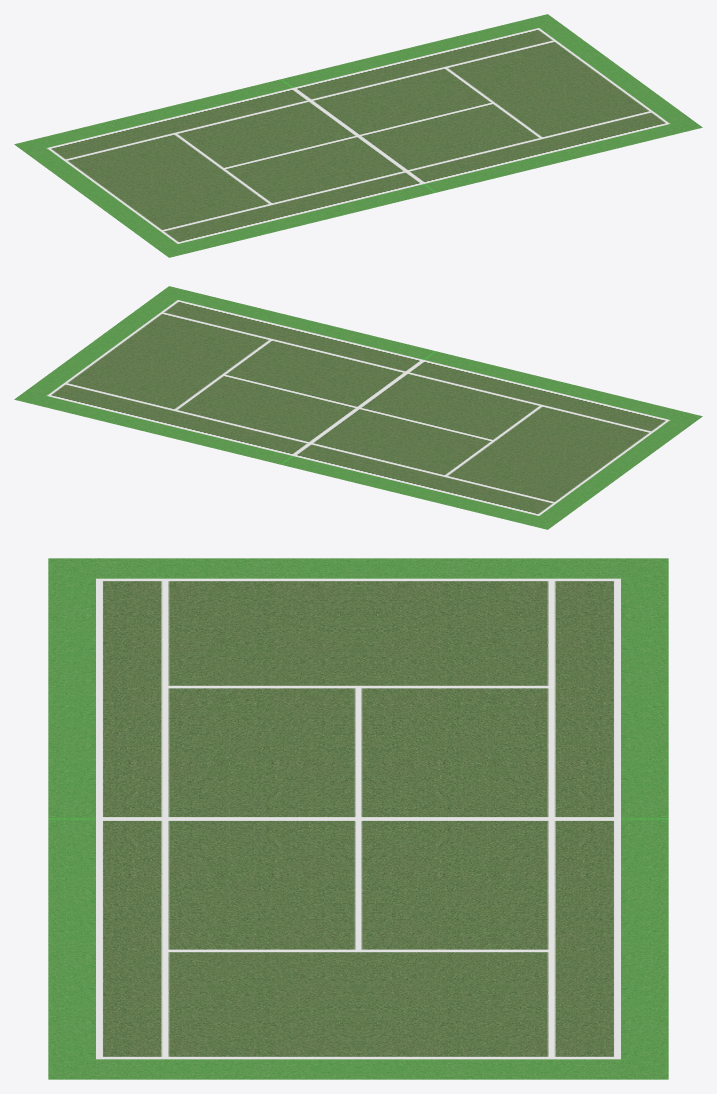
File: Tennis_Court.fbx
3 views of the same model, one above another, from view 1: azimuth 30°, elevation 25°; view 2: azimuth 150°, elevation 25°; view 3: azimuth 270°, elevation 25° (orthographic). The views are drawn at different scales.
Parts seen in each view (by area): view 1: Tennis_Court; view 2: Tennis_Court; view 3: Tennis_Court.
Part boxes in pixels (left/top/right/bottom): Tennis_Court: left=14, top=14, right=702, bottom=257; Tennis_Court: left=14, top=286, right=702, bottom=529; Tennis_Court: left=48, top=558, right=668, bottom=1079.
Bounding box in the file's own units: 2577 × 0 × 1297.
